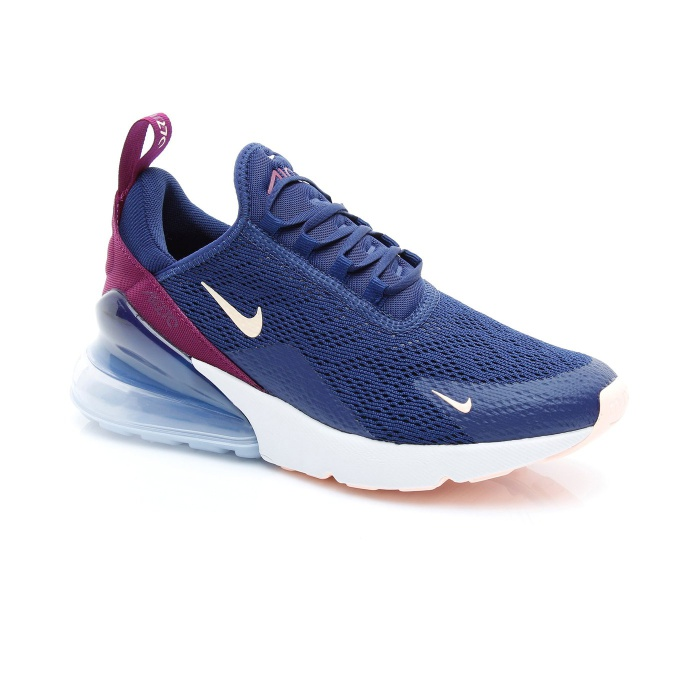nike: (198, 271, 272, 345), (425, 379, 478, 422)
